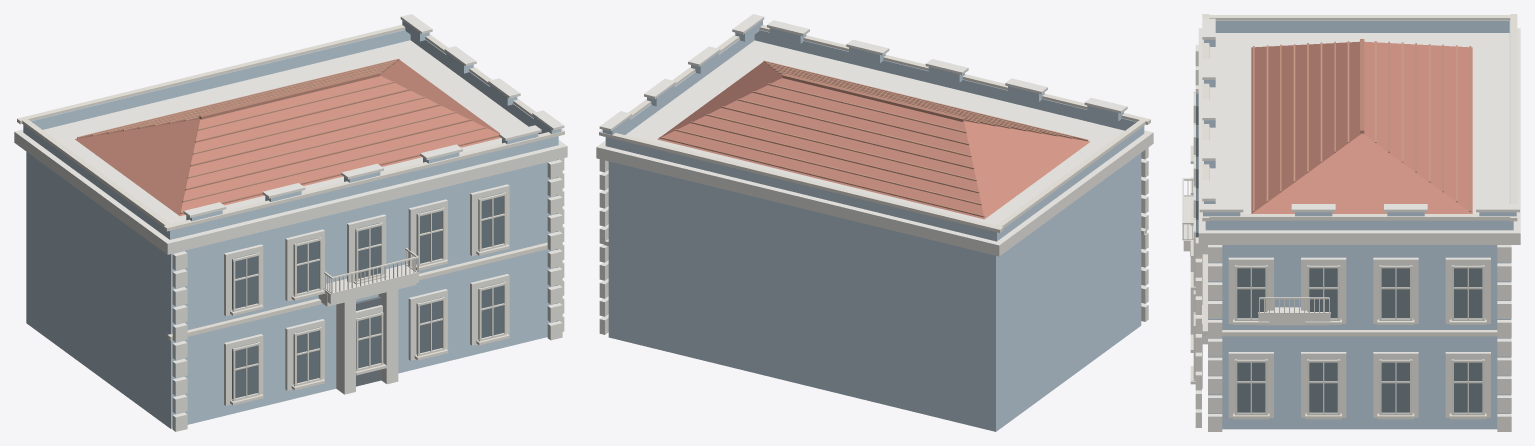
File: intendencia-fluvial.glb
3 renders of one model, left to right at view 1: azimuth 30°, elevation 25°; view 2: azimuth 150°, elevation 25°; view 3: azimuth 270°, elevation 25°, orthographic. The views are drawn at different scales.
Parts seen in each view (by area): view 1: edificio · mat-9fc5e4, edificio · mat-f3f0e7, edificio · mat-a24a3a, edificio · mat-eee7d6, edificio · mat-33434c, edificio · mat-a25640, edificio · mat-b66449, edificio · mat-984d3a, edificio · mat-38424a; view 2: edificio · mat-9fc5e4, edificio · mat-a24a3a, edificio · mat-f3f0e7, edificio · mat-eee7d6, edificio · mat-a25640, edificio · mat-b66449, edificio · mat-984d3a; view 3: edificio · mat-f3f0e7, edificio · mat-a24a3a, edificio · mat-9fc5e4, edificio · mat-eee7d6, edificio · mat-33434c, edificio · mat-b66449, edificio · mat-a25640, edificio · mat-984d3a.
Part boxes in pixels (x1,y1,x2,y2): edificio · mat-9fc5e4: (23, 20, 561, 428); edificio · mat-f3f0e7: (14, 14, 567, 431); edificio · mat-a24a3a: (75, 60, 500, 216); edificio · mat-eee7d6: (17, 24, 564, 405); edificio · mat-33434c: (232, 193, 503, 398); edificio · mat-a25640: (77, 58, 498, 214); edificio · mat-b66449: (92, 60, 487, 202); edificio · mat-984d3a: (199, 72, 380, 119); edificio · mat-38424a: (356, 296, 381, 386); edificio · mat-9fc5e4: (602, 20, 1144, 431); edificio · mat-a24a3a: (657, 62, 1090, 219); edificio · mat-f3f0e7: (596, 14, 1153, 334); edificio · mat-eee7d6: (599, 25, 1150, 245); edificio · mat-a25640: (659, 60, 1088, 217); edificio · mat-b66449: (675, 62, 1072, 205); edificio · mat-984d3a: (782, 74, 964, 121); edificio · mat-f3f0e7: (1183, 18, 1520, 431); edificio · mat-a24a3a: (1251, 41, 1472, 213); edificio · mat-9fc5e4: (1203, 20, 1516, 429); edificio · mat-eee7d6: (1182, 14, 1517, 419); edificio · mat-33434c: (1196, 93, 1482, 412); edificio · mat-b66449: (1266, 41, 1457, 202); edificio · mat-a25640: (1253, 41, 1471, 211); edificio · mat-984d3a: (1360, 39, 1364, 133).
Bounding box in the file's own units: 21.11 × 11.62 × 14.51.
